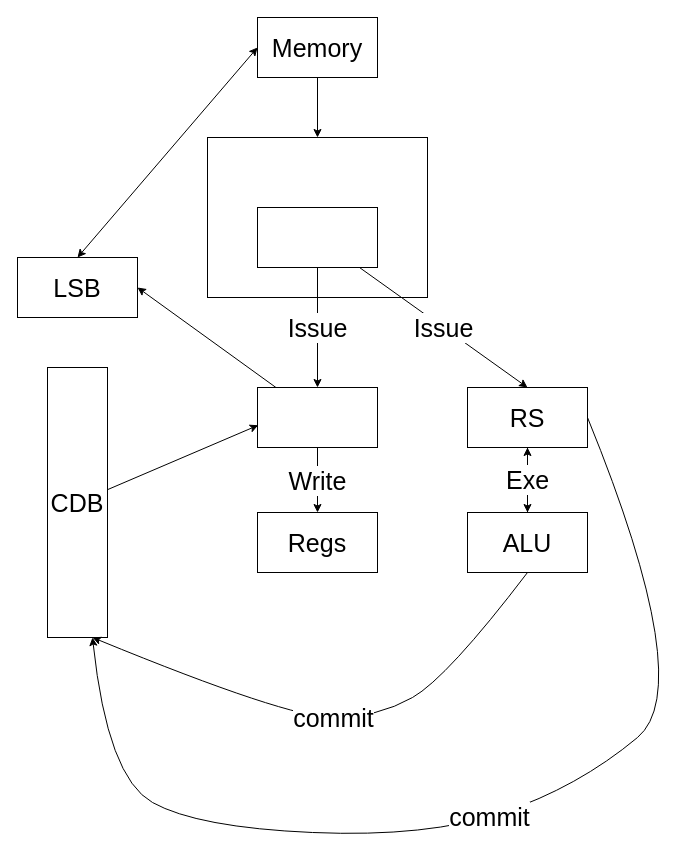
Some shapes in this 677 by 851 pixel diagram are drawn without their labels. Each missing label, with the box of its shape:
Decoder: (206, 136, 428, 298)
Instruction quene: (256, 206, 378, 268)
ROB: (256, 386, 378, 448)
